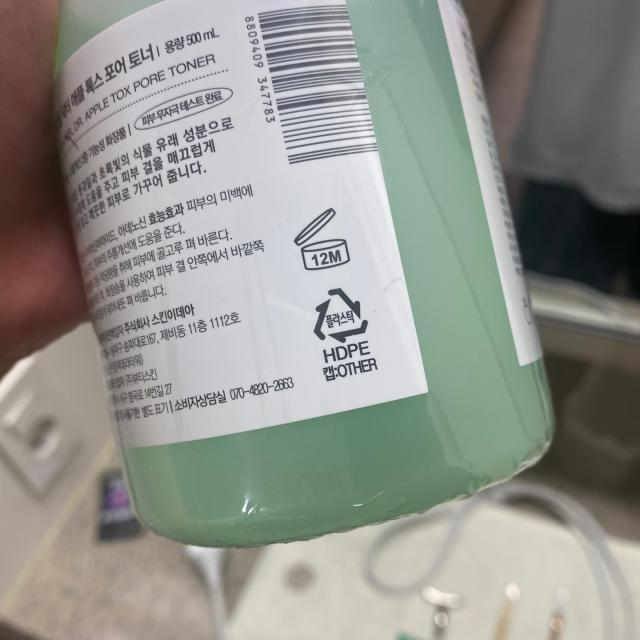Plastic: (313, 285, 372, 345)
